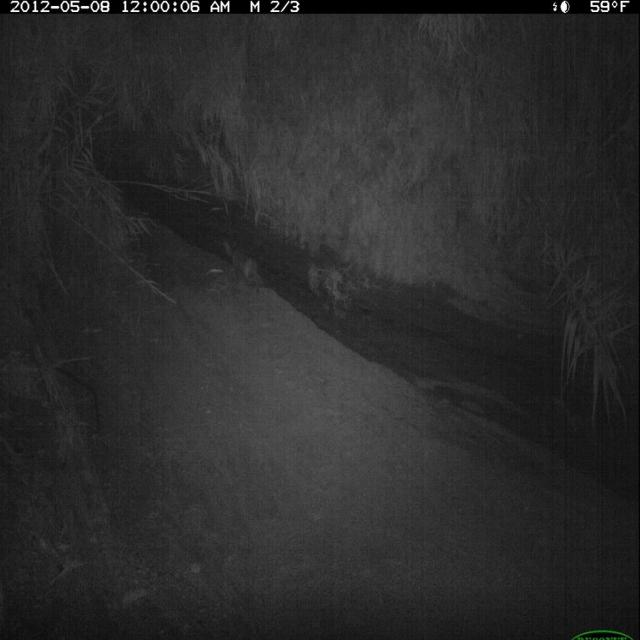cat: (219, 234, 266, 288)
